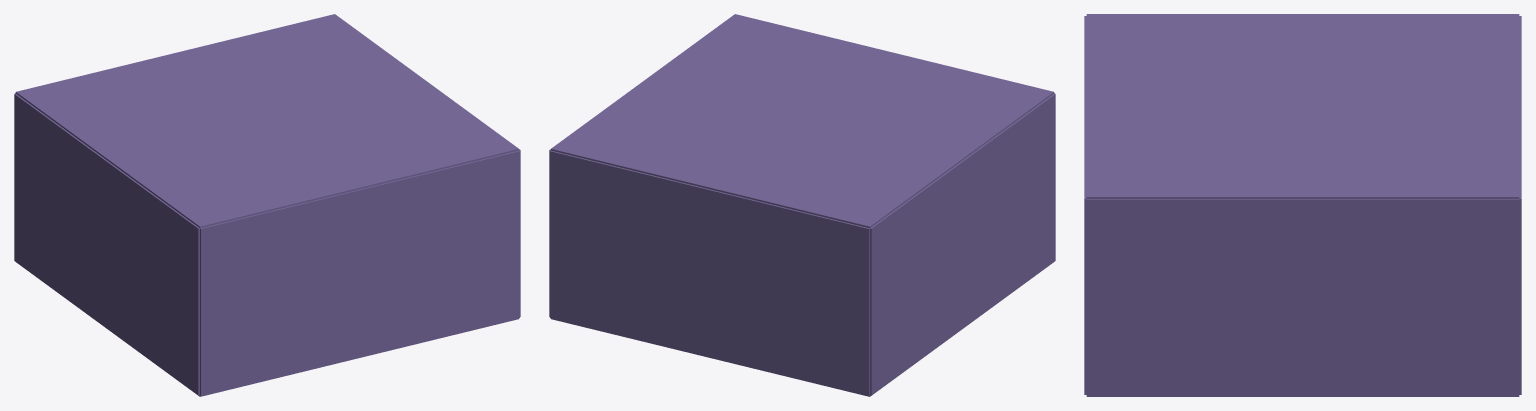
Rendered from oohiroma.fbx.
The picture shows the model from 3 angles, left to right: view 1: azimuth 30°, elevation 25°; view 2: azimuth 150°, elevation 25°; view 3: azimuth 270°, elevation 25°; orthographic projection. The views are drawn at different scales.
Visible parts, largest first — view 1: 立方体.002; view 2: 立方体.002; view 3: 立方体.002.
Part boxes in pixels (x1,y1,x2,y2): 立方体.002: (14,14,520,396); 立方体.002: (549,14,1055,396); 立方体.002: (1084,14,1521,396).
Bounding box in the file's own units: 10.1 × 5.1 × 10.1.
